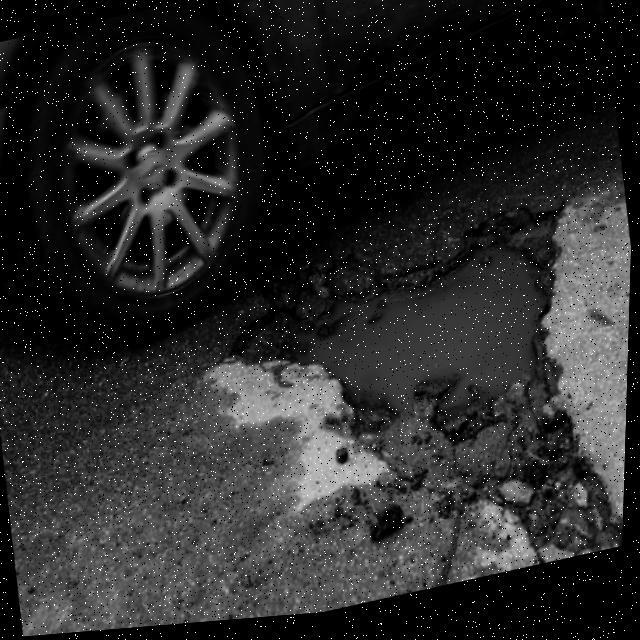pothole: (252, 214, 591, 499)
